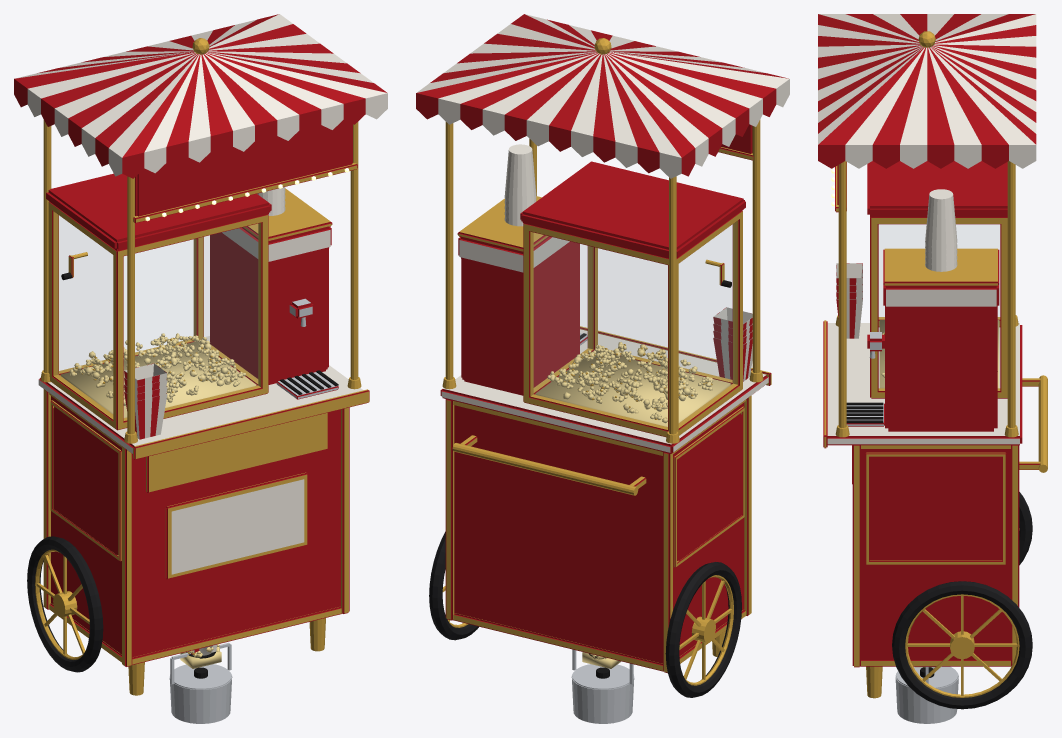
Rendered from popcorn.glb.
3 renders of one model, left to right at view 1: azimuth 30°, elevation 25°; view 2: azimuth 150°, elevation 25°; view 3: azimuth 270°, elevation 25°, orthographic.
Parts seen in each view (by area): view 1: carrello, tetto, vetro, mucchio, pentola, pila_cartocci; view 2: carrello, tetto, vetro, mucchio, pentola, pila_cartocci; view 3: carrello, tetto, vetro, pentola, pila_cartocci, mucchio.
Boxes of the visible parts, <box> form: carrello: <box>27,119,369,695</box>; tetto: <box>14,14,387,178</box>; vetro: <box>59,216,258,381</box>; mucchio: <box>61,333,256,417</box>; pentola: <box>169,642,232,723</box>; pila_cartocci: <box>124,363,167,439</box>; carrello: <box>429,119,771,697</box>; tetto: <box>416,14,789,178</box>; vetro: <box>533,225,732,390</box>; mucchio: <box>535,342,730,426</box>; pentola: <box>571,649,634,723</box>; pila_cartocci: <box>713,307,752,381</box>; carrello: <box>823,161,1047,709</box>; tetto: <box>818,14,1036,168</box>; vetro: <box>879,225,999,318</box>; pentola: <box>895,666,958,723</box>; pila_cartocci: <box>836,263,862,338</box>; mucchio: <box>879,320,999,388</box>.
Size of the model in its own units: 0.88 by 2.14 by 0.653.
